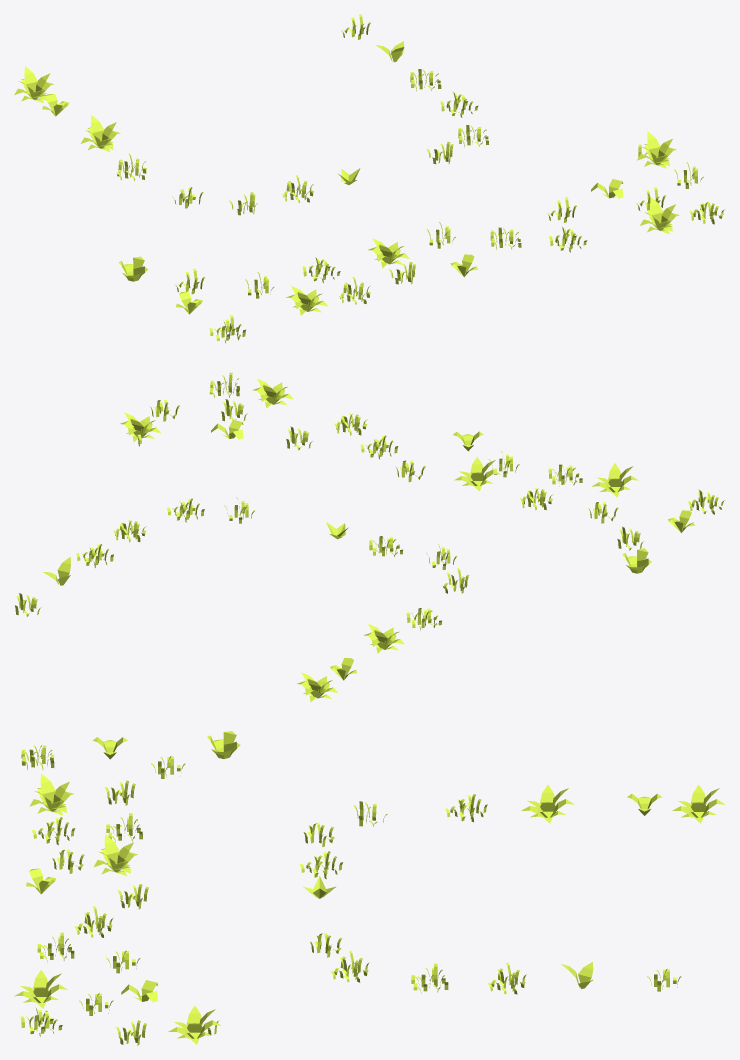
File: Tile_Road_End_Grass.fbx
The picture shows the model from 3 angles, top to bottom: view 1: azimuth 30°, elevation 25°; view 2: azimuth 150°, elevation 25°; view 3: azimuth 270°, elevation 25°; orthographic projection. The views are drawn at different scales.
Parts seen in each view (by area): view 1: plant_bushDetailed.004; view 2: plant_bushDetailed.004; view 3: plant_bushDetailed.004.
Boxes of the visible parts, bbox=[...] form: plant_bushDetailed.004: bbox=[14, 14, 725, 342]; plant_bushDetailed.004: bbox=[14, 372, 725, 701]; plant_bushDetailed.004: bbox=[14, 731, 725, 1045].
Bounding box in the file's own units: 244 × 11.18 × 244.
